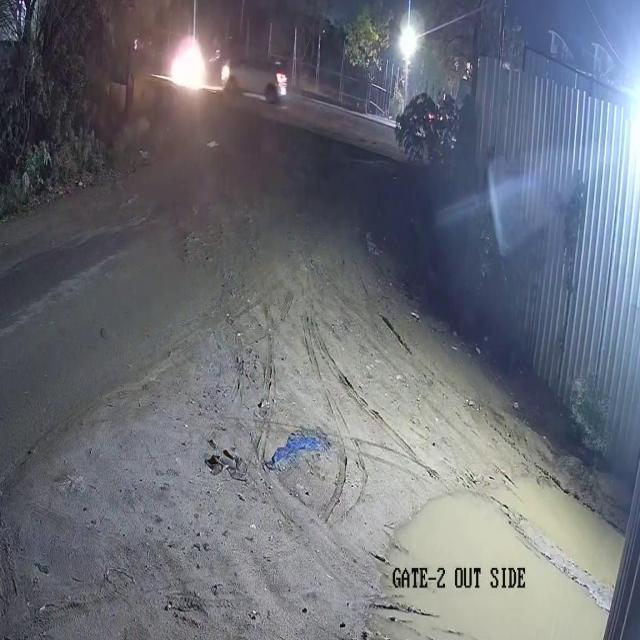accident: (165, 22, 291, 110)
